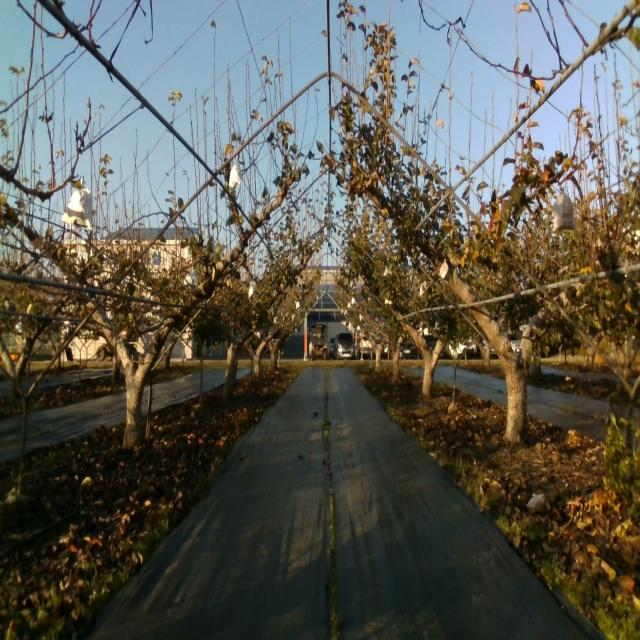pearbags: (60, 176, 92, 228), (551, 190, 578, 232), (229, 163, 242, 188), (183, 266, 198, 287), (440, 259, 450, 280)
